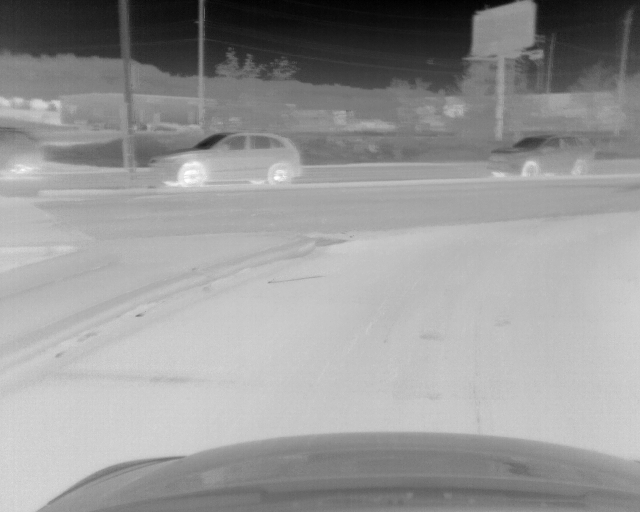car: (149, 130, 304, 188), (486, 135, 594, 179), (1, 126, 46, 176)
